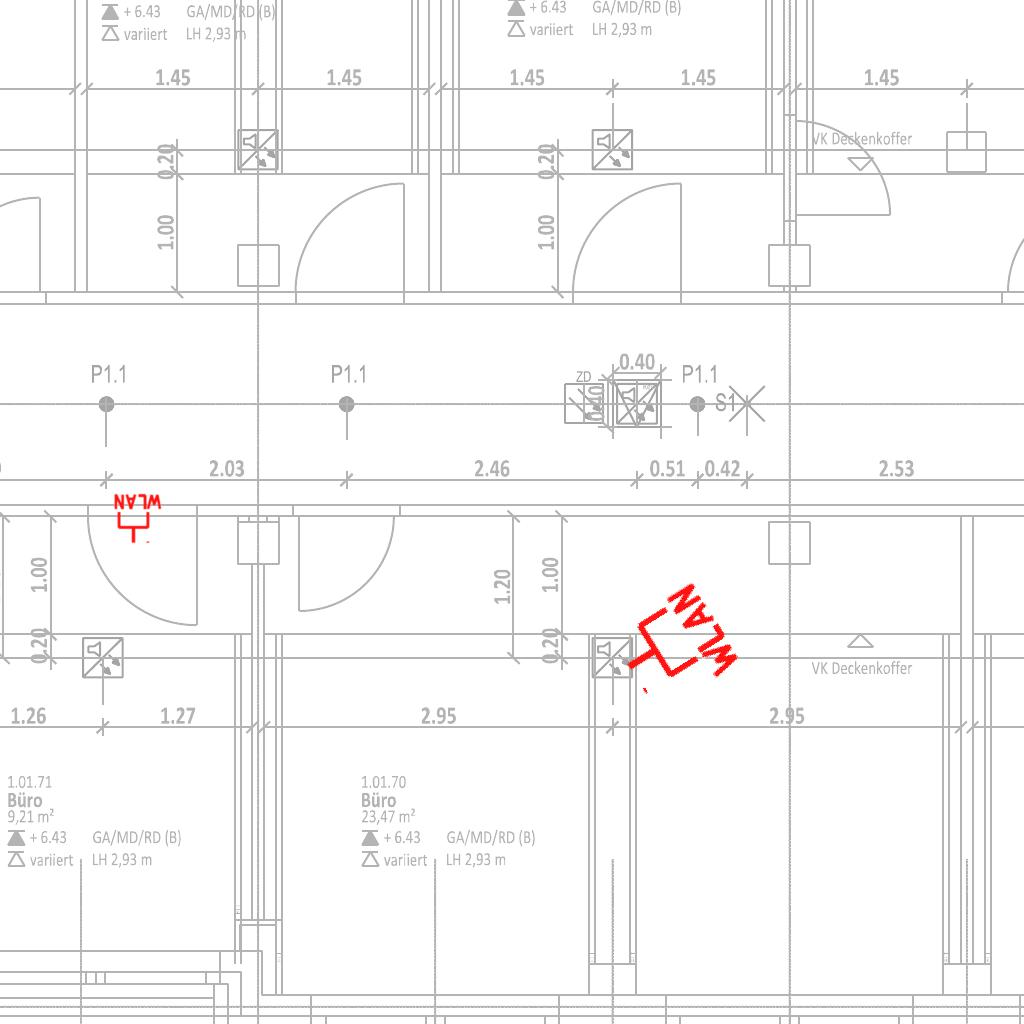WLAN: (602, 577, 747, 721), (112, 493, 164, 545)
